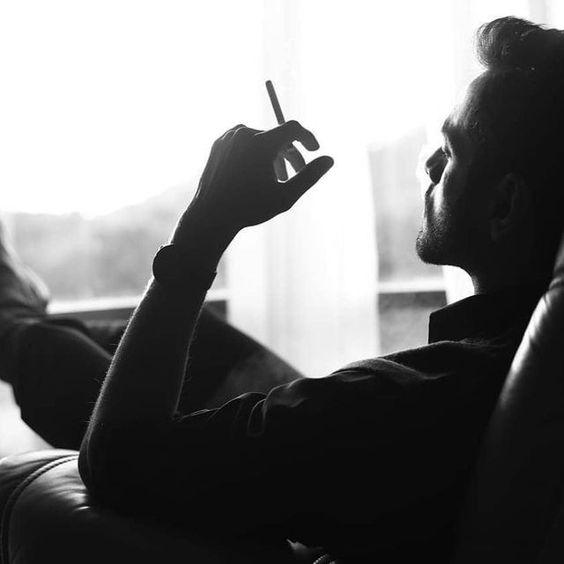cigarette: (266, 80, 294, 152)
